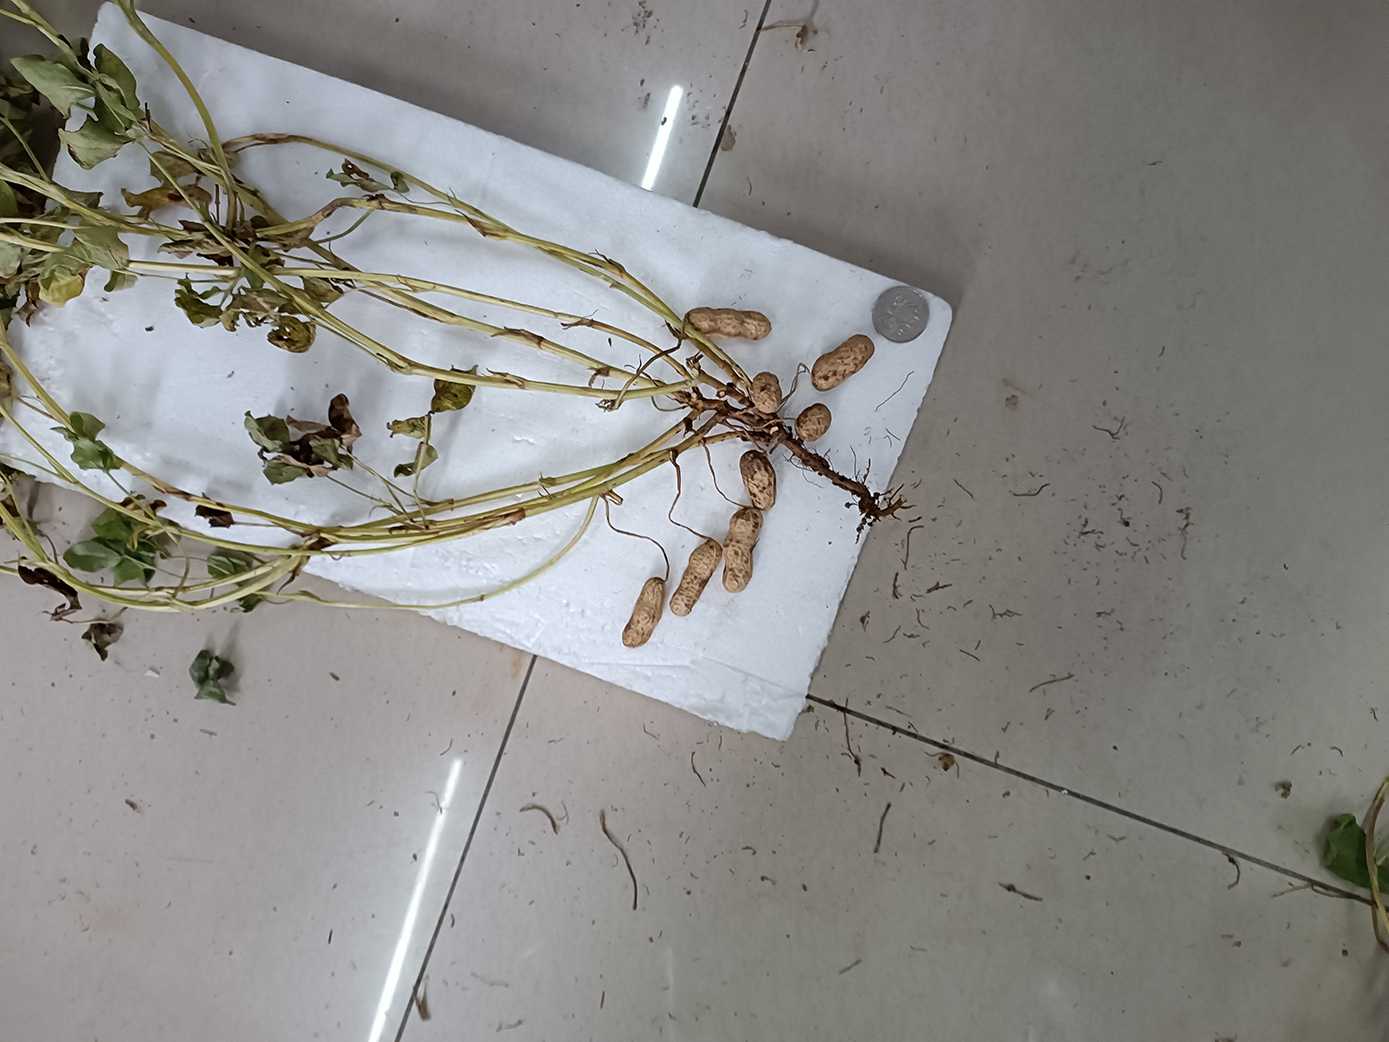h: (669, 540, 724, 617), (811, 335, 873, 391), (724, 508, 764, 593), (623, 578, 665, 648), (685, 306, 771, 339), (738, 450, 775, 509), (796, 403, 832, 442), (751, 372, 782, 415)
